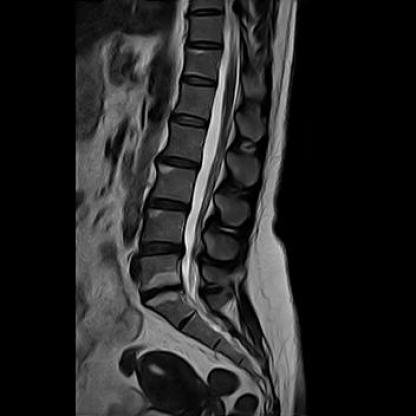Disc Bulgerotation: (139, 239, 185, 259), (138, 283, 183, 303)
